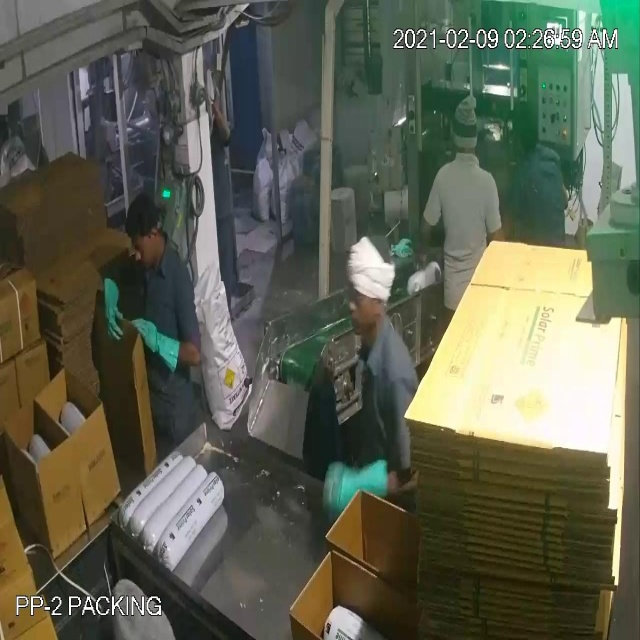Guantes: (320, 444, 398, 536), (128, 310, 185, 383), (94, 276, 123, 344)
